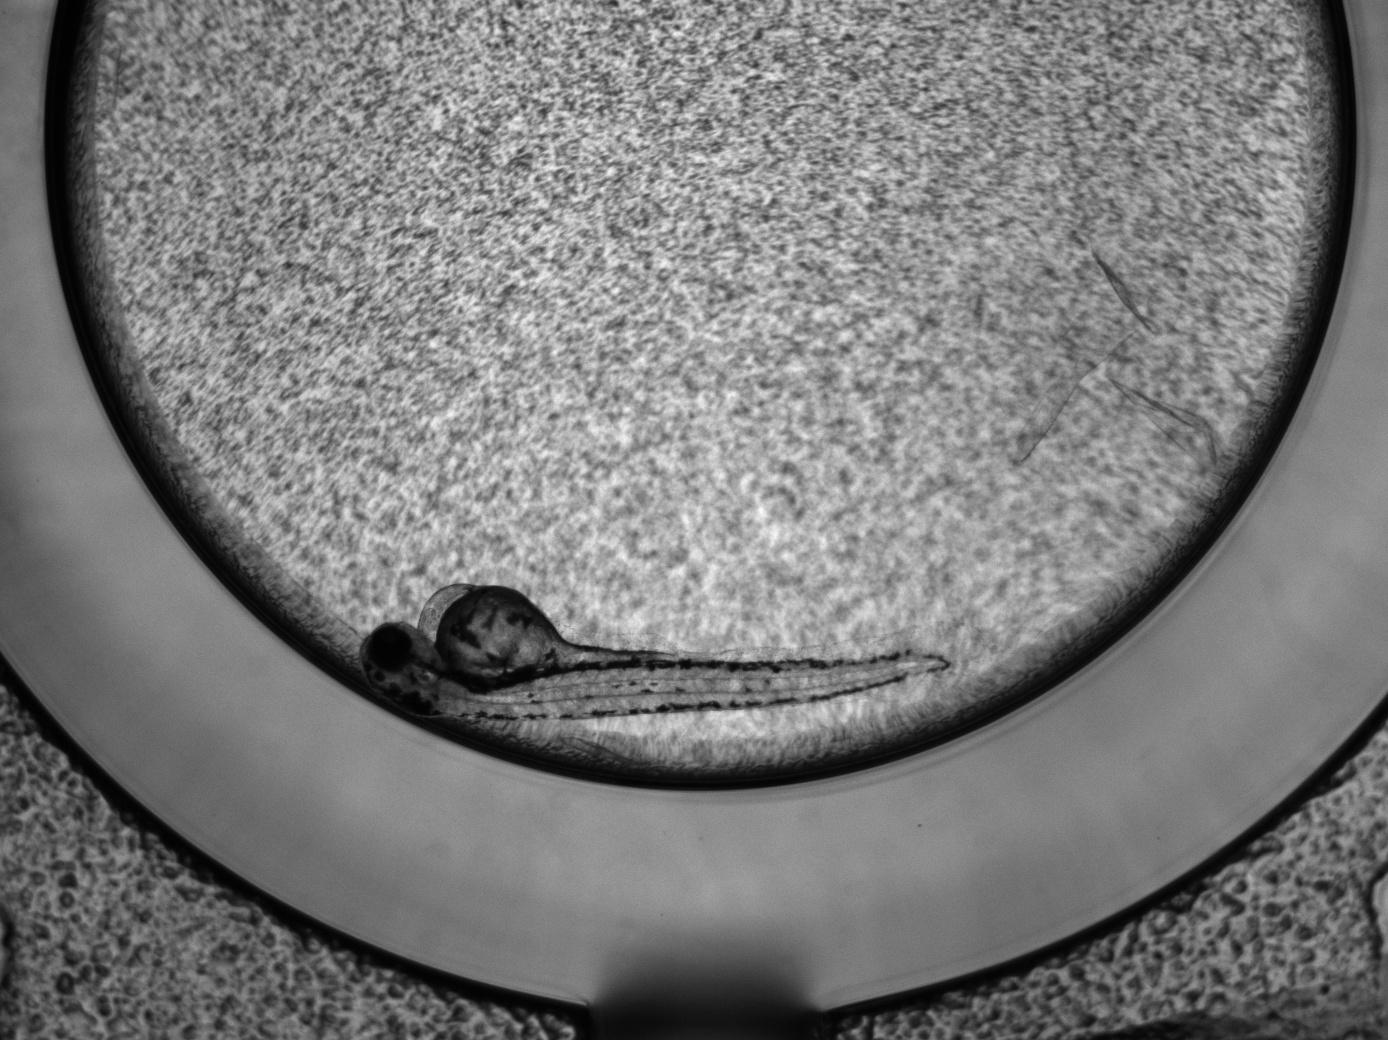embryo: (359, 583, 954, 722)
eye: (368, 626, 412, 672)
yolksac: (417, 584, 559, 694)
